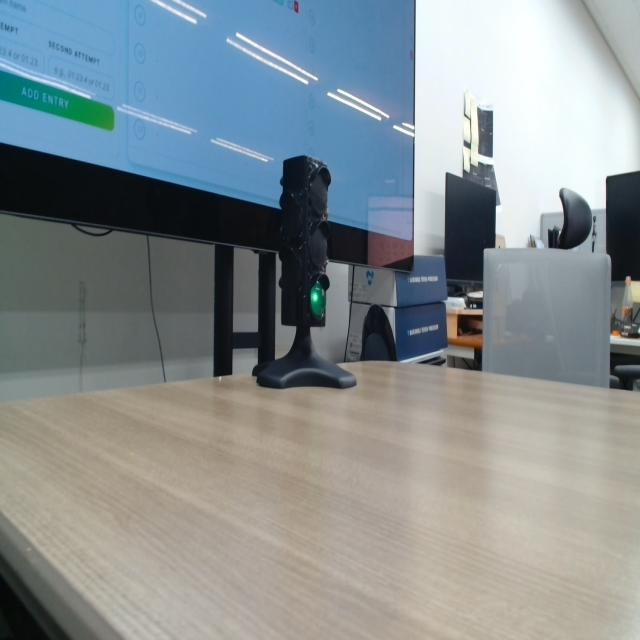green_light: (310, 283, 326, 319)
